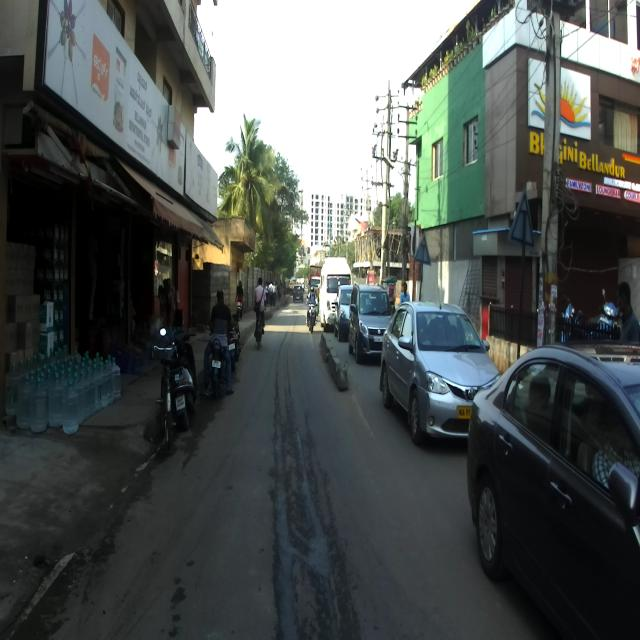car ahead at: (469, 344, 640, 640), (380, 303, 466, 441)
